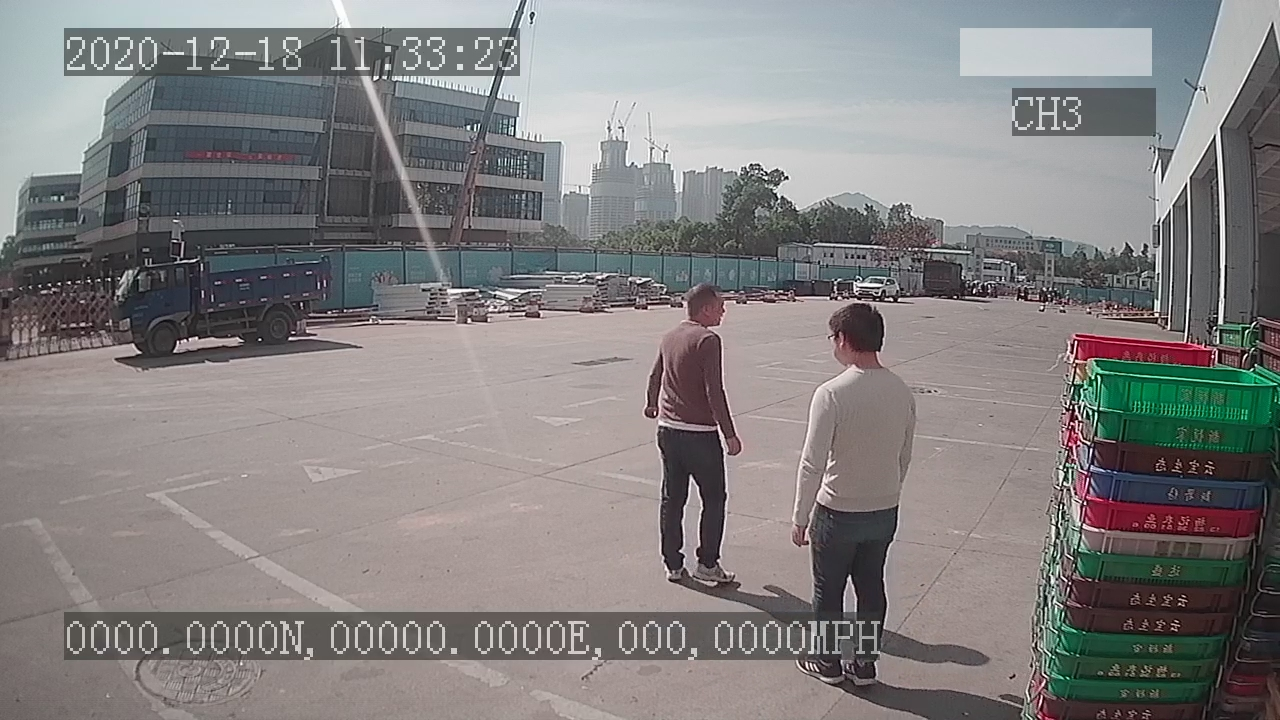person: (646, 284, 745, 584)
